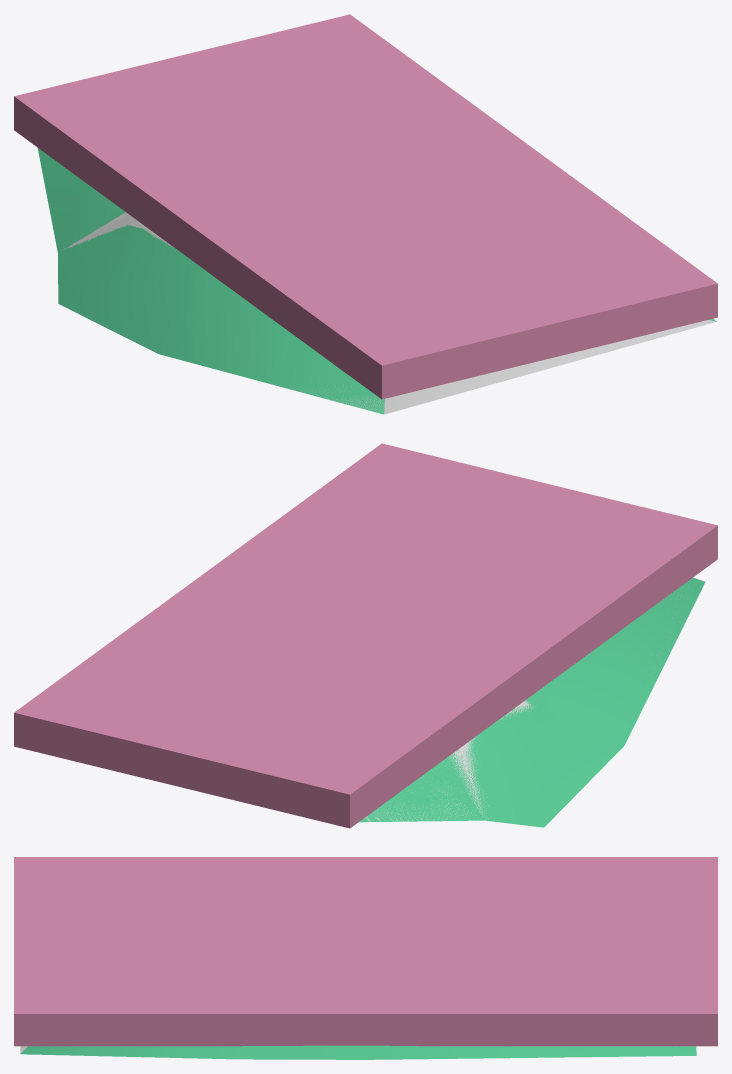
Rendered from parkinglot_01_b.dae.
3 views of the same model, one above another, from view 1: azimuth 30°, elevation 25°; view 2: azimuth 150°, elevation 25°; view 3: azimuth 270°, elevation 25° (orthographic). The views are drawn at different scales.
Visible parts, largest first — view 1: Untitled, Colmesh-1, ind_bld_a15, ind_bld_a1000; view 2: Untitled, Colmesh-1, ind_bld_a1000; view 3: Untitled, Colmesh-1.
Part boxes in pixels (x1=…): Untitled: x1=14, y1=14, x2=717, y2=399; Colmesh-1: x1=37, y1=148, x2=716, y2=414; ind_bld_a15: x1=384, y1=320, x2=716, y2=414; ind_bld_a1000: x1=57, y1=212, x2=384, y2=412; Untitled: x1=14, y1=443, x2=717, y2=828; Colmesh-1: x1=359, y1=577, x2=705, y2=827; ind_bld_a1000: x1=360, y1=579, x2=694, y2=821; Untitled: x1=14, y1=857, x2=717, y2=1046; Colmesh-1: x1=20, y1=1045, x2=696, y2=1059.
Bounding box in the file's own units: 47.14 × 70.63 × 10.81.
